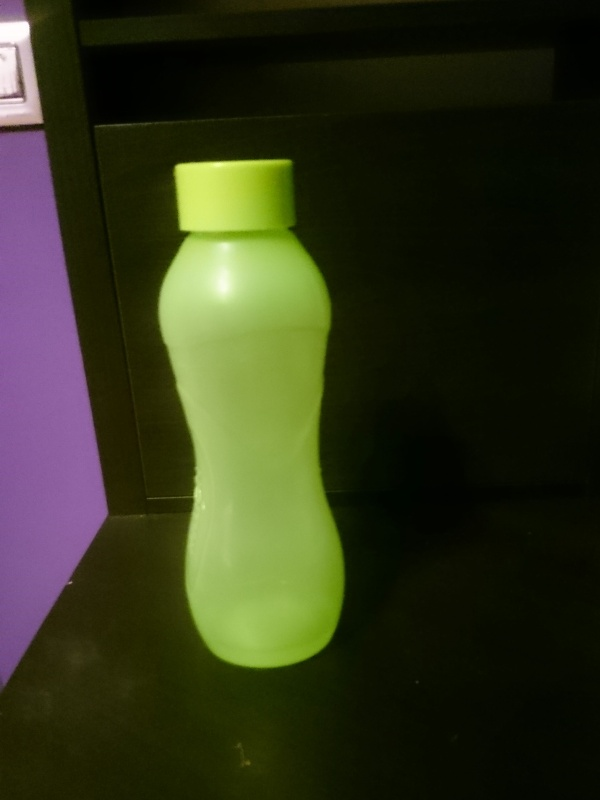my bottle: (158, 159, 345, 671)
